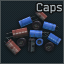Capacitors: (0, 0, 64, 64)
